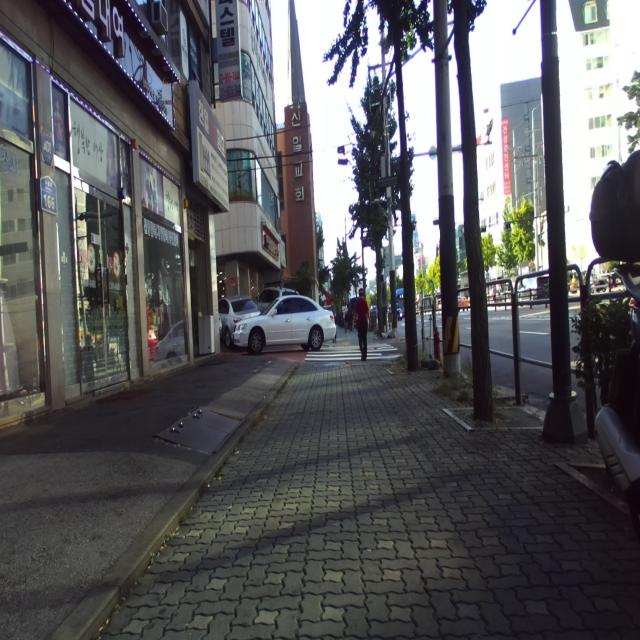횡단보도: (304, 344, 404, 361)
